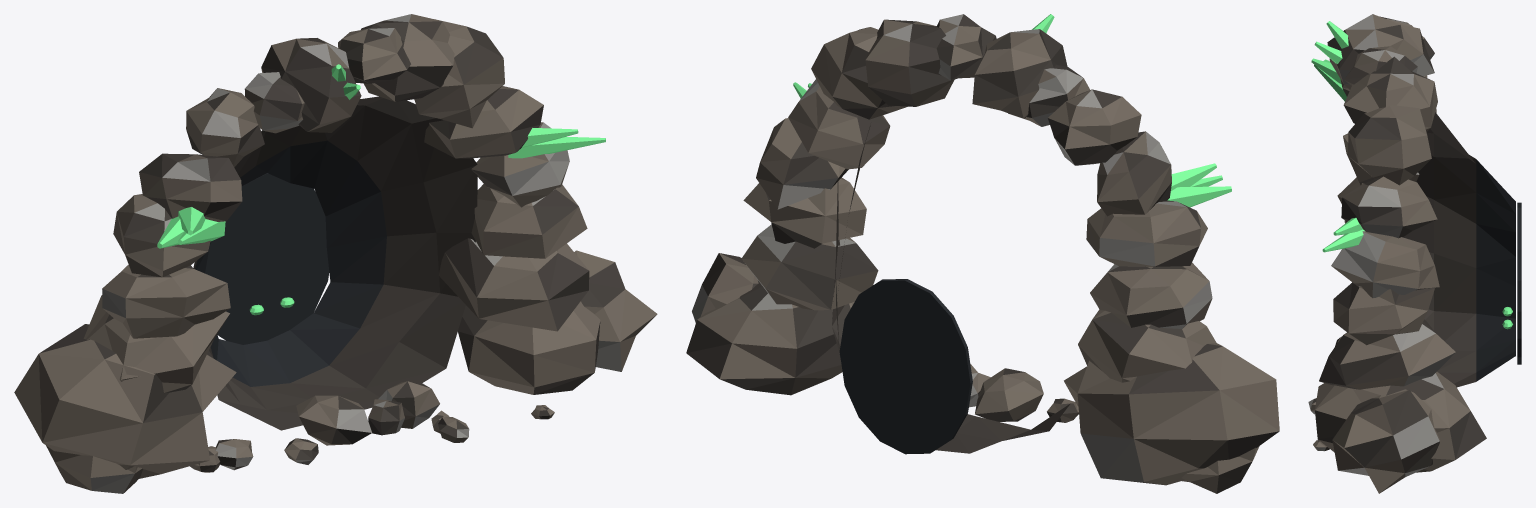
File: Kit_CaveMouth.fbx
3 views of the same model, side by side, from view 1: azimuth 30°, elevation 25°; view 2: azimuth 150°, elevation 25°; view 3: azimuth 270°, elevation 25° (orthographic). The views are drawn at different scales.
Parts seen in each view (by area): view 1: Funnel, Eyes; view 2: Funnel, Eyes; view 3: Funnel, Eyes.
Part boxes in pixels (left/top/right/bottom): Funnel: left=14, top=14, right=657, bottom=493; Eyes: left=157, top=64, right=605, bottom=315; Funnel: left=686, top=14, right=1279, bottom=493; Eyes: left=793, top=14, right=1231, bottom=207; Funnel: left=1308, top=14, right=1521, bottom=493; Eyes: left=1311, top=21, right=1512, bottom=329.
Size of the model in its own units: 14 by 9.09 by 5.07.
